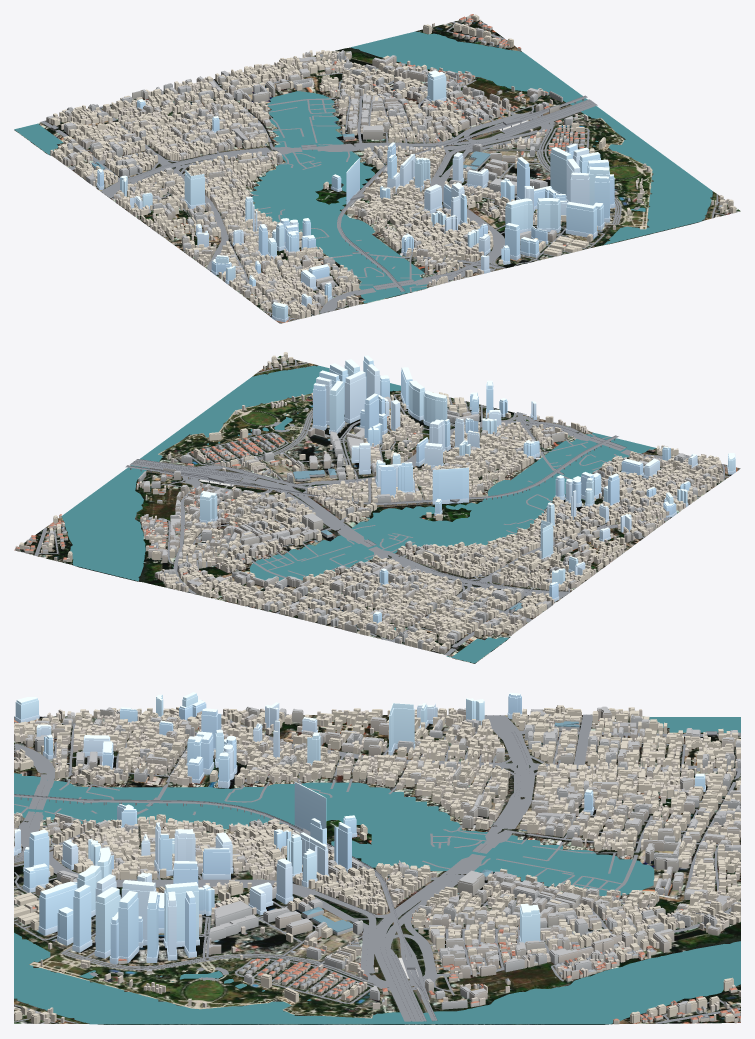
3 views of the same model, one above another, from view 1: azimuth 30°, elevation 25°; view 2: azimuth 150°, elevation 25°; view 3: azimuth 270°, elevation 25° (orthographic). The views are drawn at different scales.
Parts seen in each view (by area): view 1: MESH_05_SHOPHOUSE, MESH_02_WATER, MESH_08_MODERN_TOWER, MESH_07_APARTMENT_CONCRETE, MESH_01_TERRAIN, MESH_04_TUBE_HOUSE, MESH_03_ROAD_METRO, MESH_06_VILLA_COLONIAL; view 2: MESH_05_SHOPHOUSE, MESH_02_WATER, MESH_08_MODERN_TOWER, MESH_07_APARTMENT_CONCRETE, MESH_01_TERRAIN, MESH_04_TUBE_HOUSE, MESH_03_ROAD_METRO, MESH_06_VILLA_COLONIAL; view 3: MESH_05_SHOPHOUSE, MESH_02_WATER, MESH_01_TERRAIN, MESH_07_APARTMENT_CONCRETE, MESH_08_MODERN_TOWER, MESH_03_ROAD_METRO, MESH_04_TUBE_HOUSE, MESH_06_VILLA_COLONIAL.
Boxes of the visible parts, x1,y1,x2,y2 form: MESH_05_SHOPHOUSE: [50, 14, 736, 318]; MESH_02_WATER: [14, 31, 712, 303]; MESH_08_MODERN_TOWER: [96, 70, 615, 322]; MESH_07_APARTMENT_CONCRETE: [46, 27, 572, 313]; MESH_01_TERRAIN: [14, 18, 740, 323]; MESH_04_TUBE_HOUSE: [50, 14, 729, 318]; MESH_03_ROAD_METRO: [41, 21, 738, 323]; MESH_06_VILLA_COLONIAL: [320, 14, 722, 247]; MESH_05_SHOPHOUSE: [19, 352, 721, 651]; MESH_02_WATER: [61, 365, 656, 663]; MESH_08_MODERN_TOWER: [199, 355, 735, 623]; MESH_07_APARTMENT_CONCRETE: [49, 396, 717, 653]; MESH_01_TERRAIN: [14, 356, 740, 663]; MESH_04_TUBE_HOUSE: [15, 357, 723, 649]; MESH_03_ROAD_METRO: [23, 356, 740, 655]; MESH_06_VILLA_COLONIAL: [15, 361, 416, 585]; MESH_05_SHOPHOUSE: [14, 705, 740, 1023]; MESH_02_WATER: [14, 717, 740, 1024]; MESH_01_TERRAIN: [14, 714, 740, 1024]; MESH_07_APARTMENT_CONCRETE: [25, 706, 740, 1013]; MESH_08_MODERN_TOWER: [14, 692, 705, 964]; MESH_03_ROAD_METRO: [14, 714, 740, 1023]; MESH_04_TUBE_HOUSE: [14, 708, 740, 1023]; MESH_06_VILLA_COLONIAL: [32, 895, 740, 1024].
Bounding box in the file's own units: 2000 × 186 × 2000.
8 materials, 1 textured.
